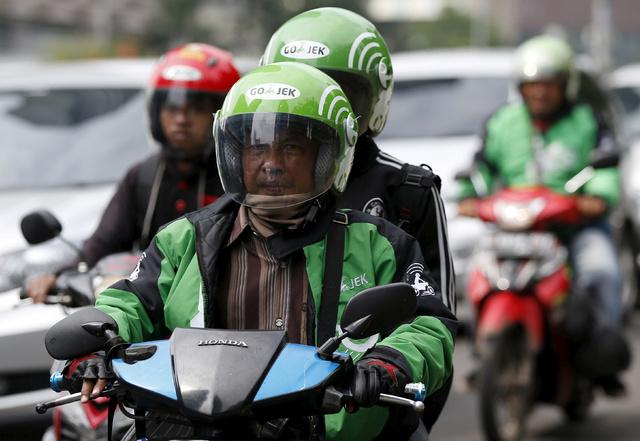helm: (212, 62, 358, 224), (262, 5, 397, 144), (148, 40, 245, 158), (509, 35, 580, 119)
motor: (33, 276, 433, 441), (450, 165, 618, 441), (18, 206, 176, 441)
